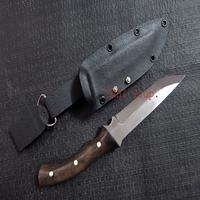knife: (35, 71, 194, 191)
